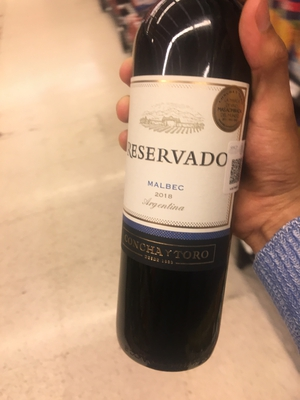reservado malbec: (124, 10, 248, 379)
